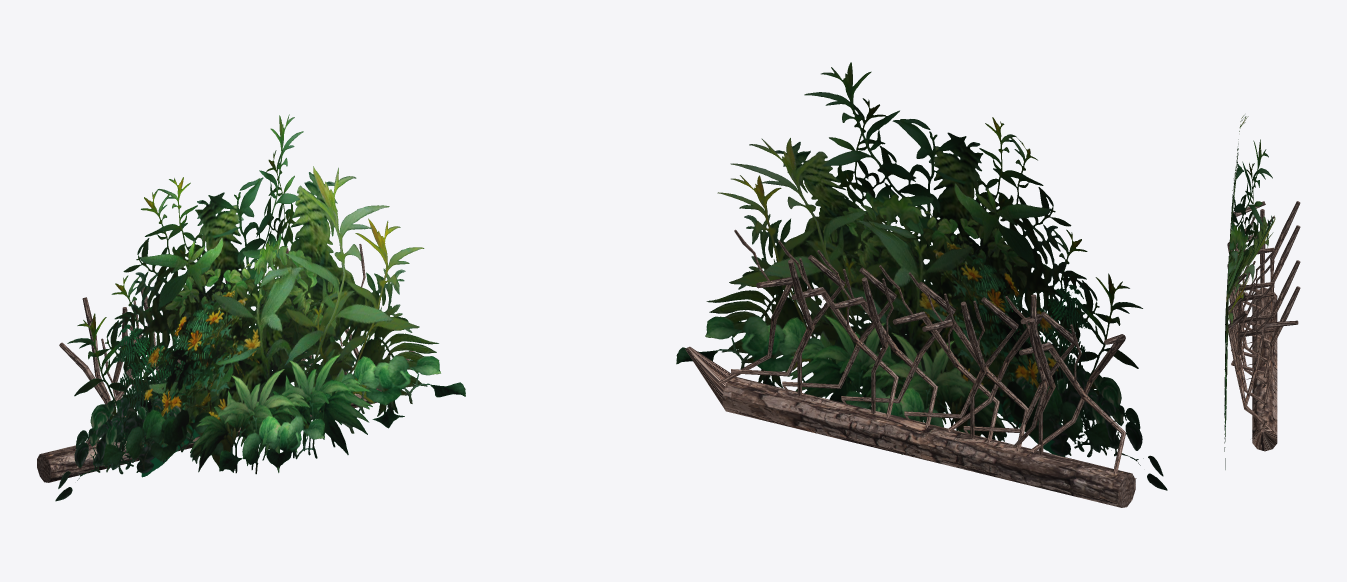
Rendered from BushExpo.fbx.
The picture shows the model from 3 angles, left to right: view 1: azimuth 30°, elevation 25°; view 2: azimuth 150°, elevation 25°; view 3: azimuth 270°, elevation 25°; orthographic projection. The views are drawn at different scales.
Parts seen in each view (by area): view 1: Bush:pCylinder33; view 2: Bush:pCylinder33; view 3: Bush:pCylinder33.
Part boxes in pixels (box(x1,y1,x2,y2)): Bush:pCylinder33: box(37, 114, 465, 501); Bush:pCylinder33: box(676, 62, 1167, 507); Bush:pCylinder33: box(1224, 115, 1300, 469).
Bounding box in the file's own units: 10.16 × 7.69 × 2.15.
2 materials, 2 textured.
